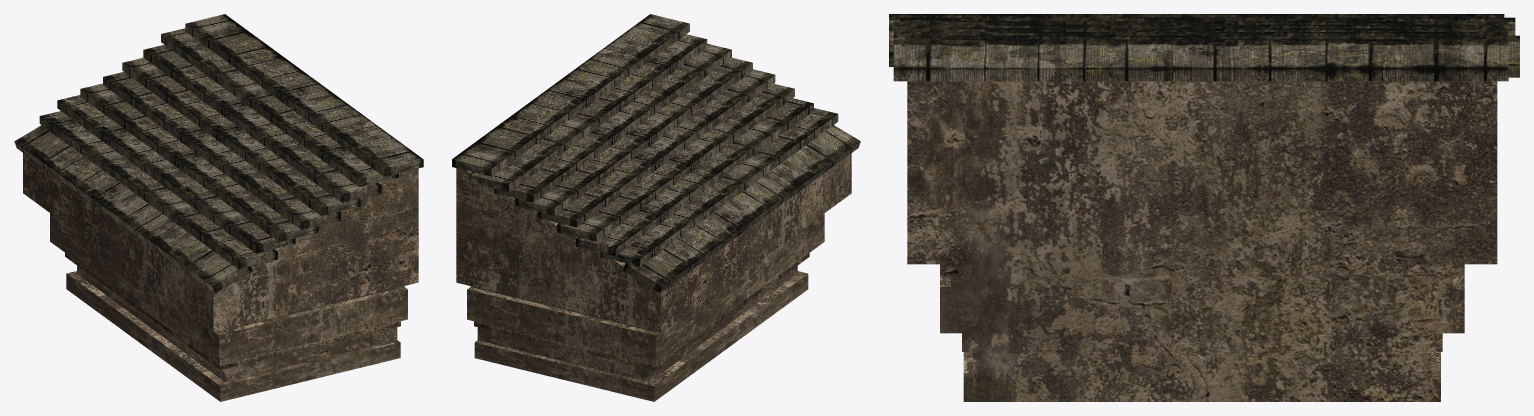
File: materials_5_roof_14.fbx
The picture shows the model from 3 angles, left to right: view 1: azimuth 30°, elevation 25°; view 2: azimuth 150°, elevation 25°; view 3: azimuth 270°, elevation 25°; orthographic projection. The views are drawn at different scales.
Visible parts, largest first — view 1: materials_5_roof_14; view 2: materials_5_roof_14; view 3: materials_5_roof_14.
Boxes of the visible parts, bbox=[...] form: materials_5_roof_14: bbox=[14, 14, 423, 401]; materials_5_roof_14: bbox=[452, 14, 860, 401]; materials_5_roof_14: bbox=[889, 14, 1519, 401].
Bounding box in the file's own units: 273 × 266 × 456.
